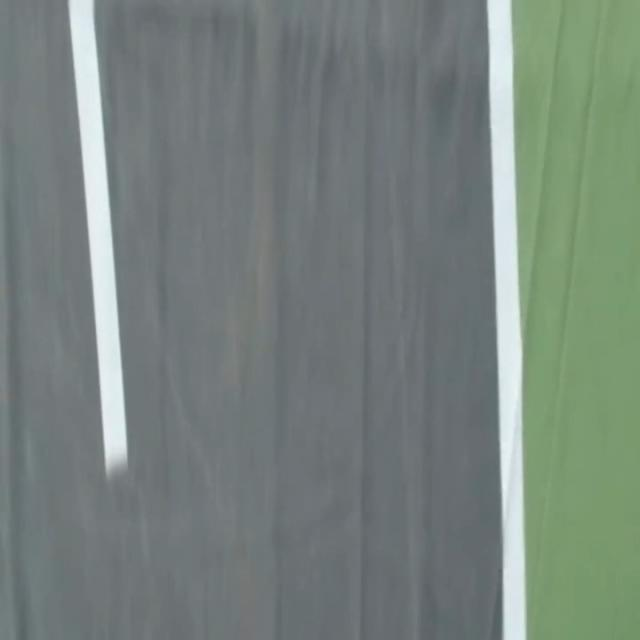center: (68, 0, 127, 475)
right: (487, 0, 525, 639)
